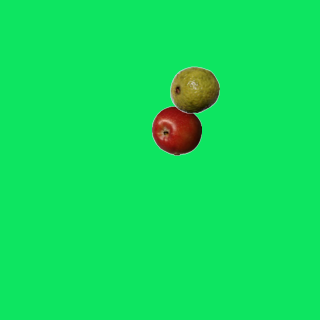Apple Braeburn: (151, 105, 201, 155)
Guava: (169, 64, 219, 114)
